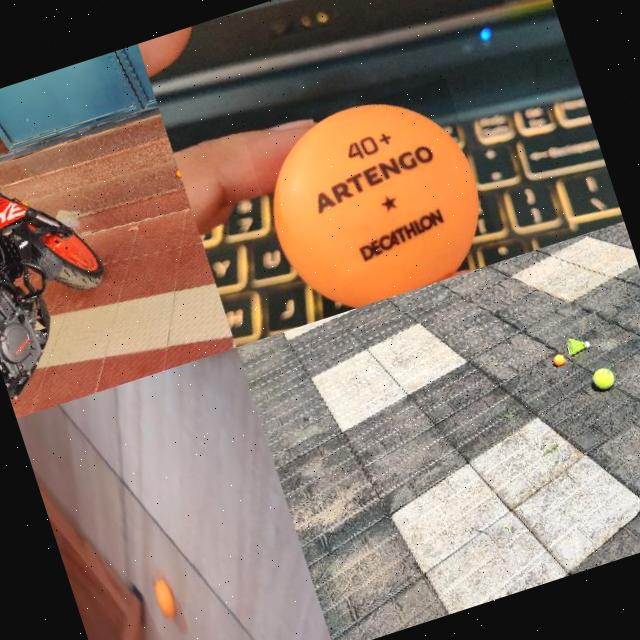ping-pong-ball: (244, 76, 505, 324), (150, 575, 178, 621), (551, 352, 564, 367), (173, 168, 179, 178)
